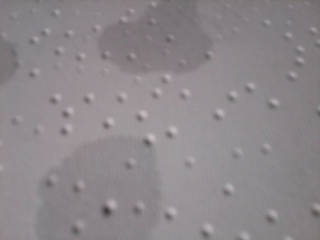Water_detected: (103, 141, 206, 240), (130, 4, 211, 55), (0, 53, 32, 105)
